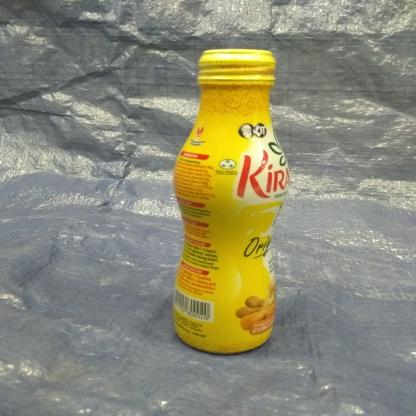glass: (164, 44, 288, 357)
